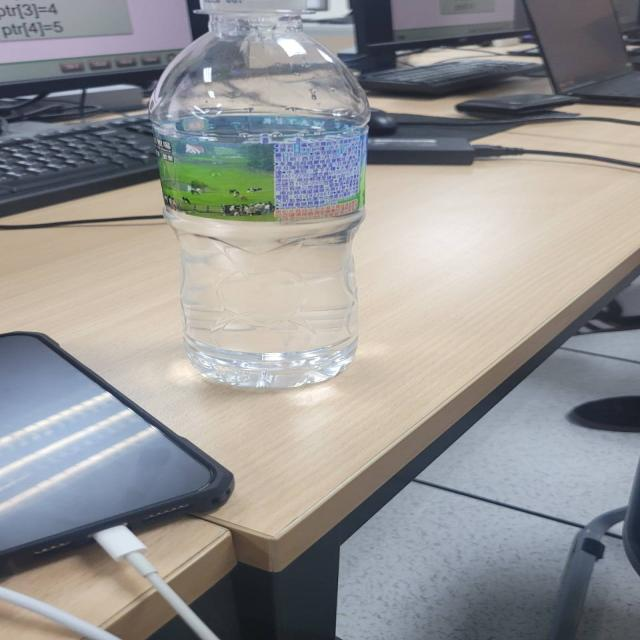Plastic: (142, 0, 394, 387)
